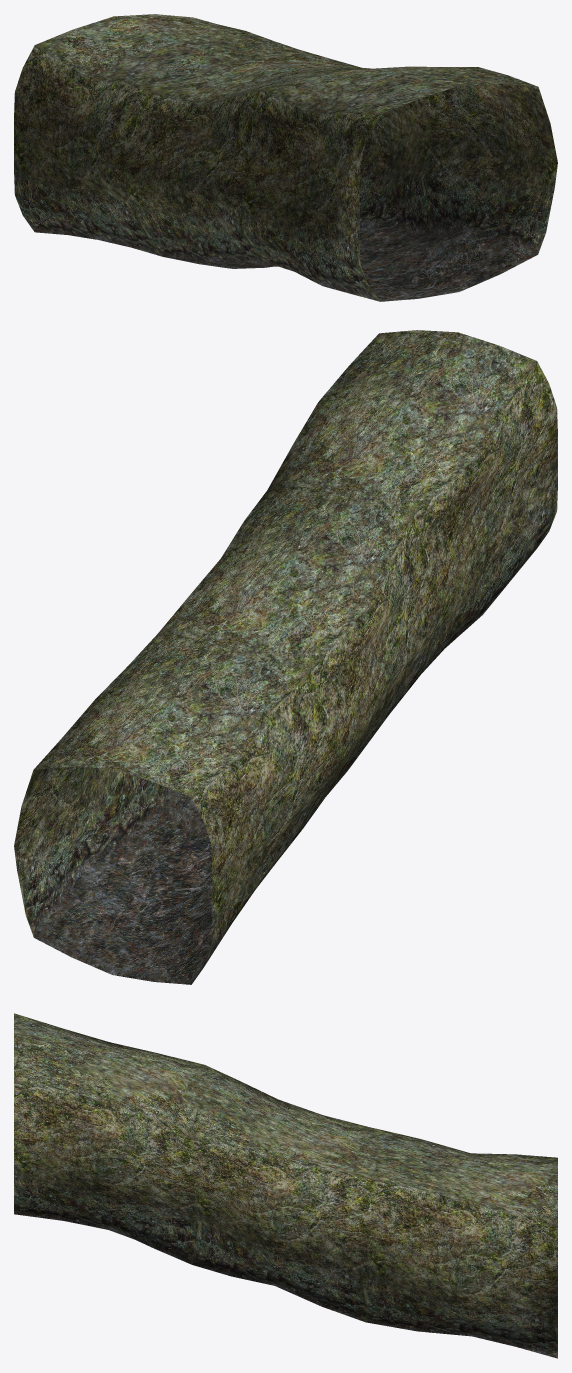
The model's file is thm_all_cave_s03_damprock_mirror_r7_r7.fbx.
3 views of the same model, one above another, from view 1: azimuth 30°, elevation 25°; view 2: azimuth 150°, elevation 25°; view 3: azimuth 270°, elevation 25° (orthographic). The views are drawn at different scales.
Parts seen in each view (by area): view 1: mesh_node; view 2: mesh_node; view 3: mesh_node.
Boxes of the visible parts, bbox=[...] form: mesh_node: bbox=[14, 14, 557, 301]; mesh_node: bbox=[14, 330, 557, 984]; mesh_node: bbox=[14, 1013, 557, 1358].
Size of the model in its own units: 8.34 by 14.93 by 24.
